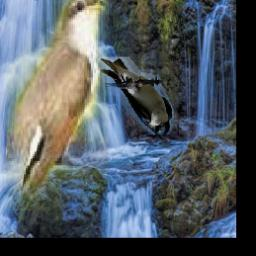Cuckoo: (6, 0, 109, 210)
Swallow: (101, 58, 174, 136)
